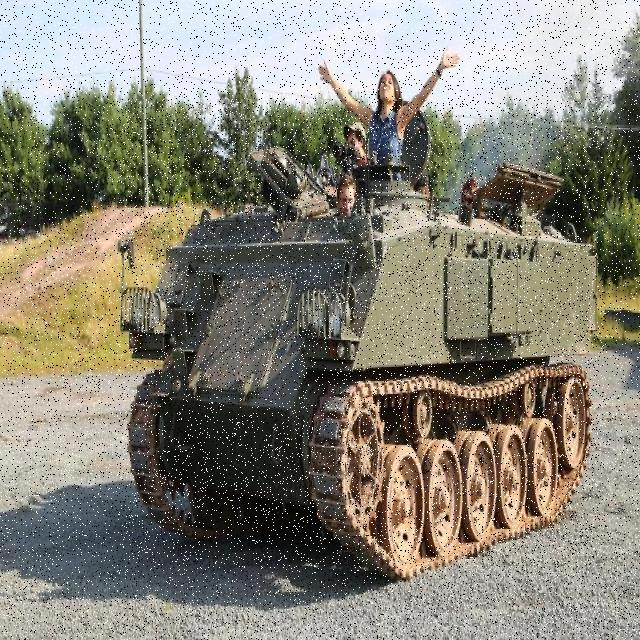MIL_MBT: (119, 99, 604, 568)
